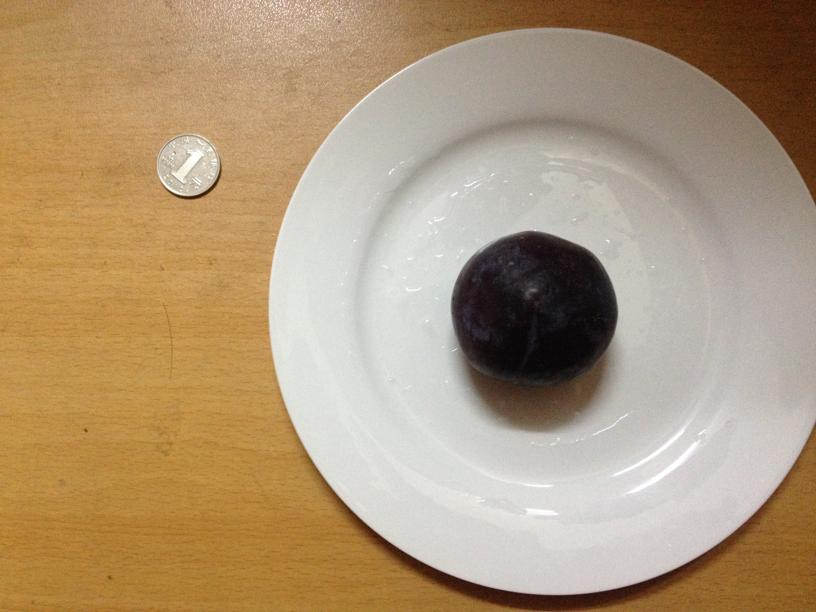coin: (155, 129, 222, 198)
plum: (451, 232, 613, 377)
